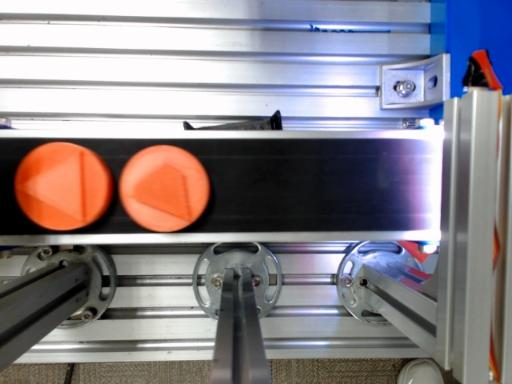Not_Square: (16, 149, 84, 223), (135, 163, 189, 221)
Orange_Waper: (14, 142, 112, 230), (119, 146, 210, 231)
